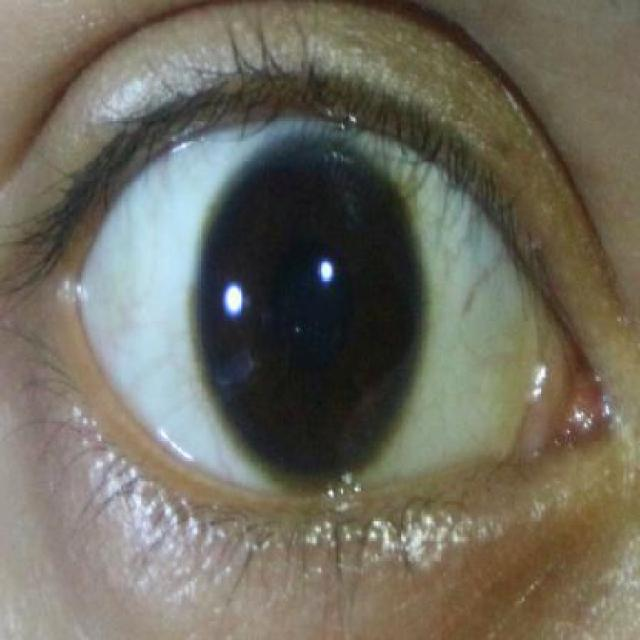Normal: (194, 139, 426, 485)
